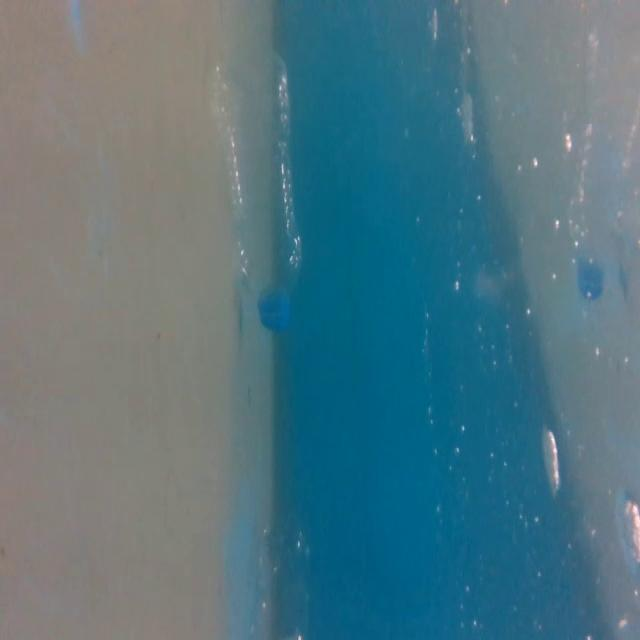plastic bottle: (202, 43, 316, 337)
